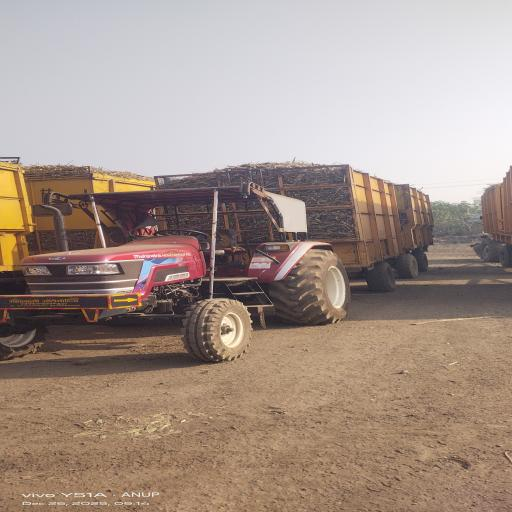number_plate: (3, 290, 92, 312)
